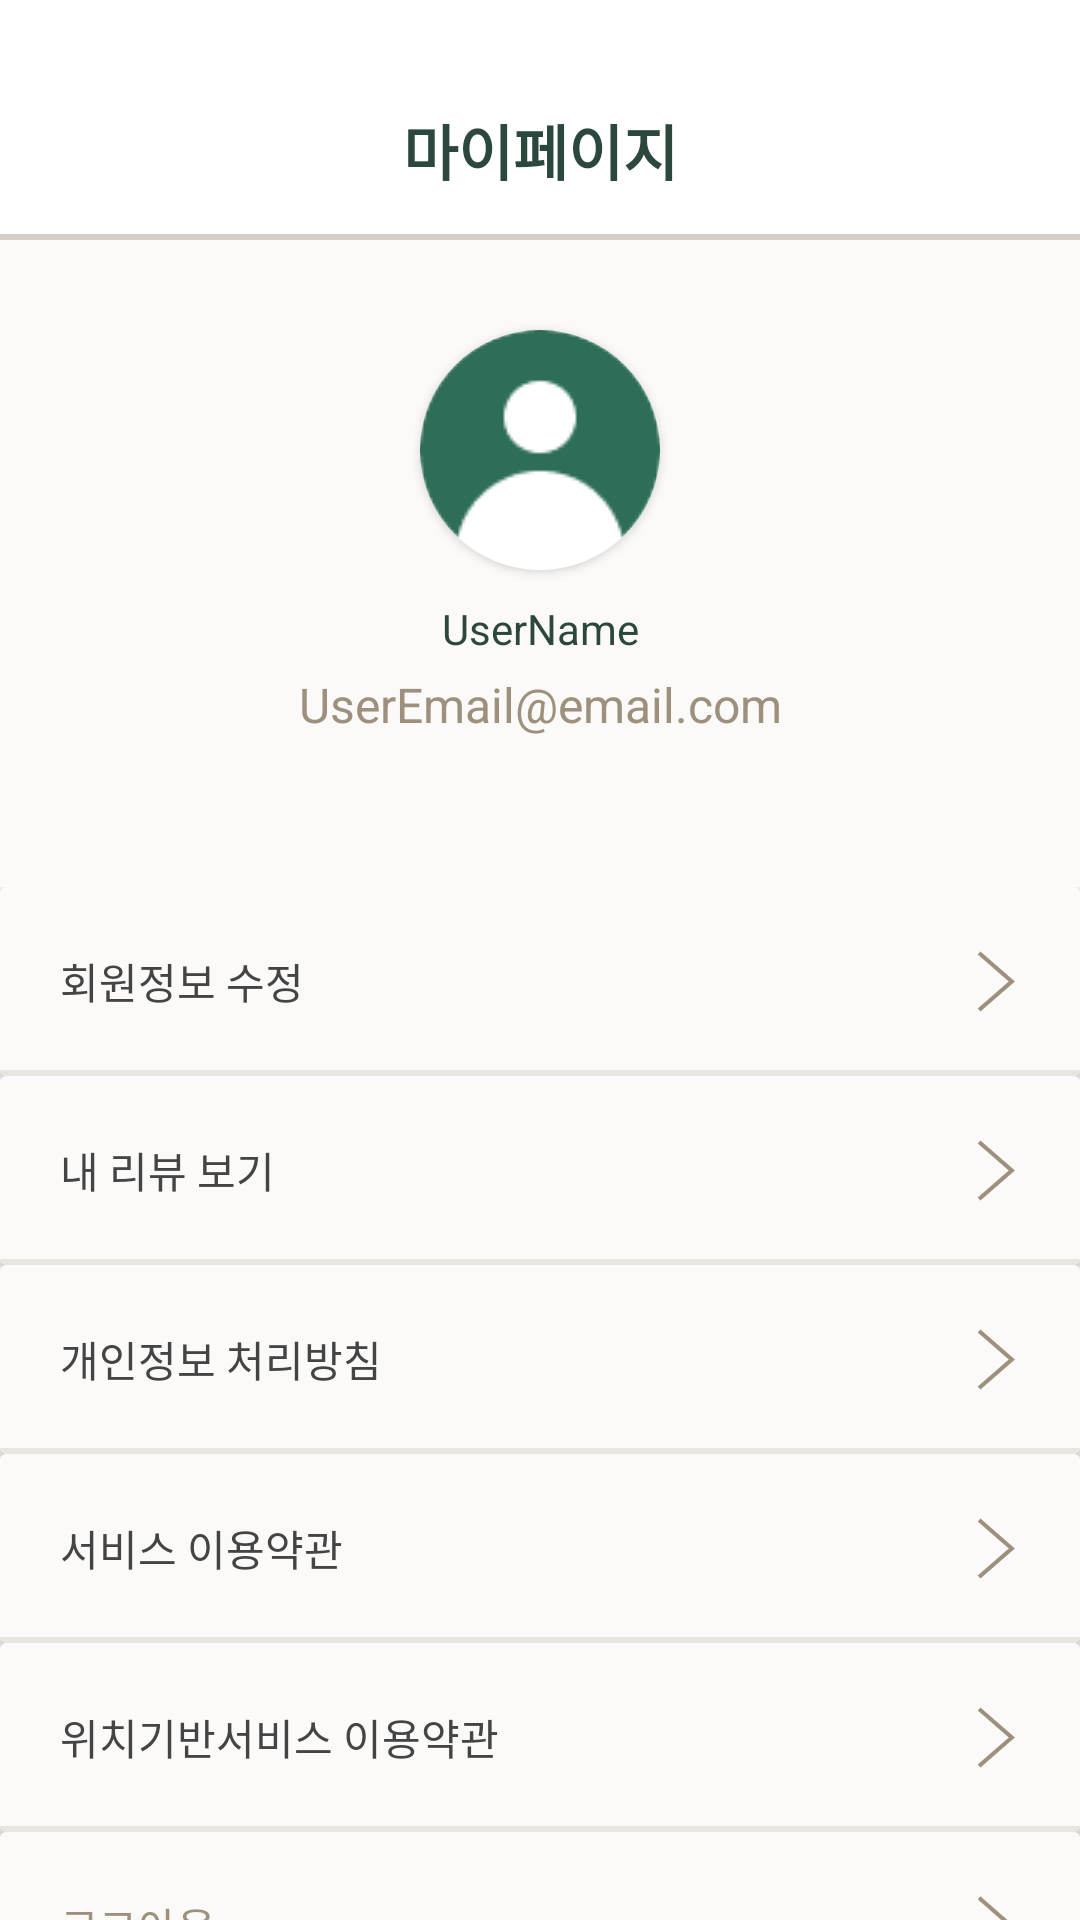

Point at icon controls on the screen. Image size 1080*1920, points as (x,y).
profile: (540,450)
